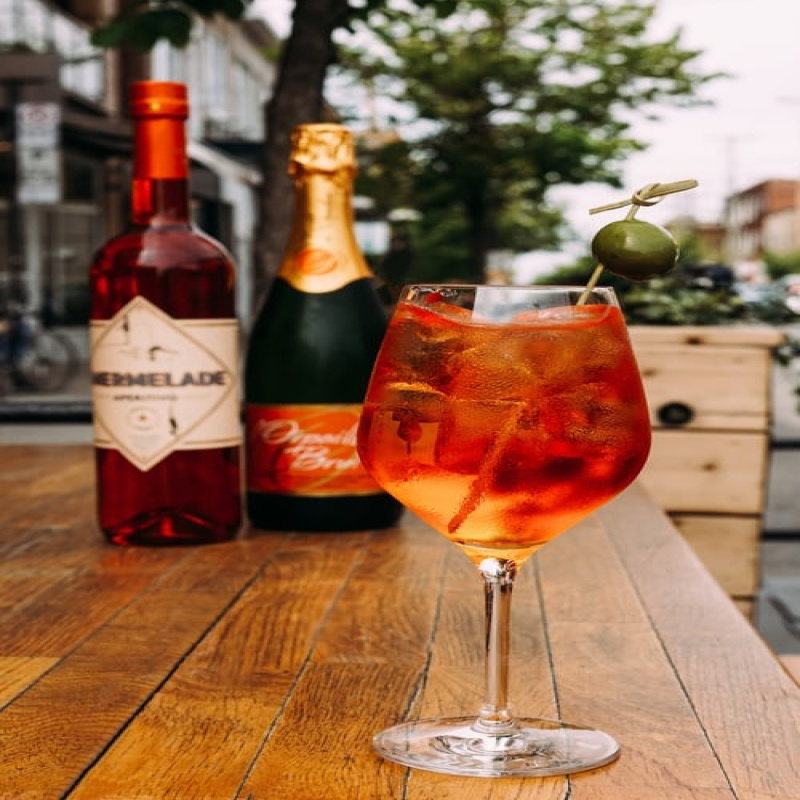wine: (94, 82, 249, 544), (255, 127, 399, 527)
